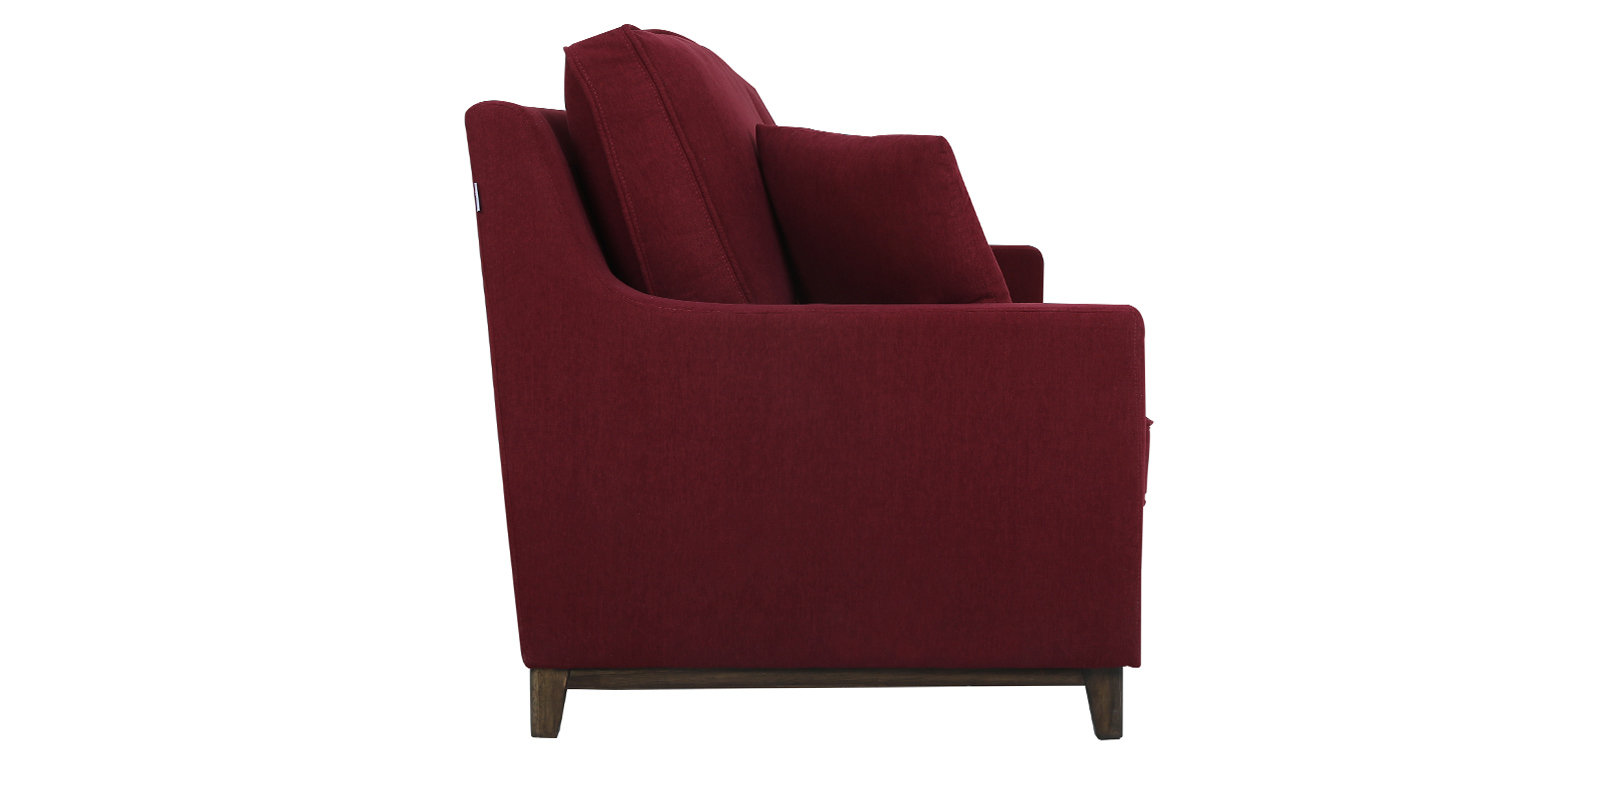Diego Three Seater Sofa in Garnet Red Colour by CasaCraft: (402, 23, 1173, 733)
